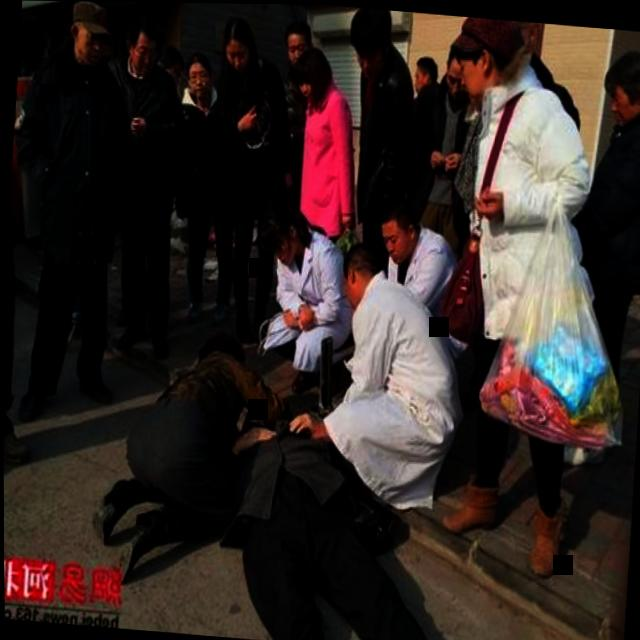Fall-Detected: (208, 373, 546, 640)
